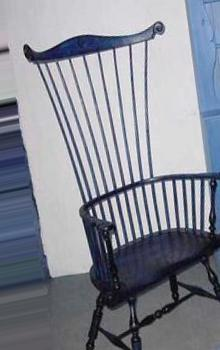chair: (22, 19, 219, 349)
